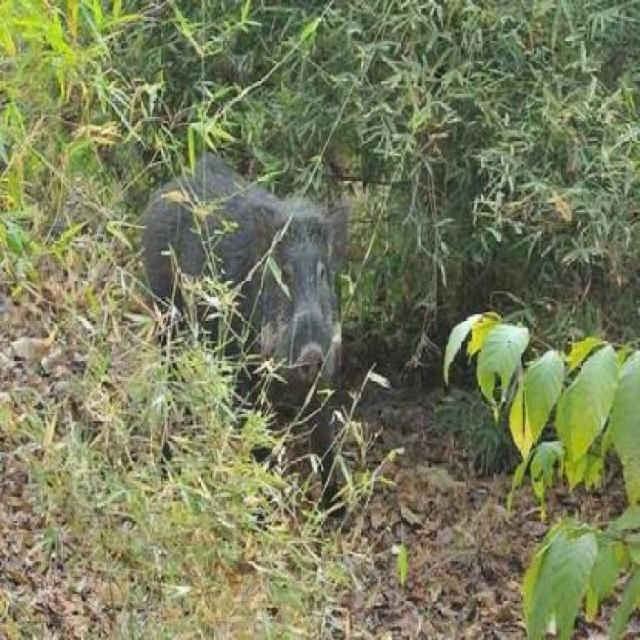pig: (122, 131, 400, 511)
